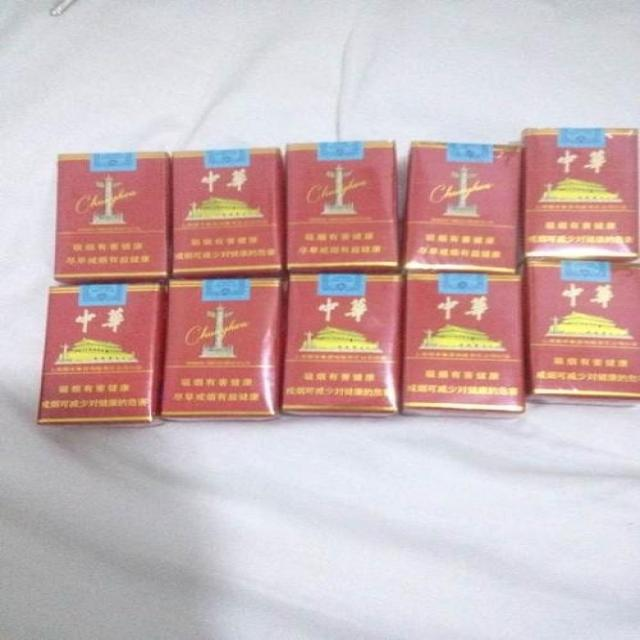box: (160, 274, 288, 423), (38, 284, 168, 428), (401, 273, 524, 416), (525, 259, 640, 406), (284, 275, 401, 417), (404, 142, 525, 273), (520, 129, 636, 258), (287, 141, 399, 270), (173, 150, 285, 275), (56, 154, 168, 278)
